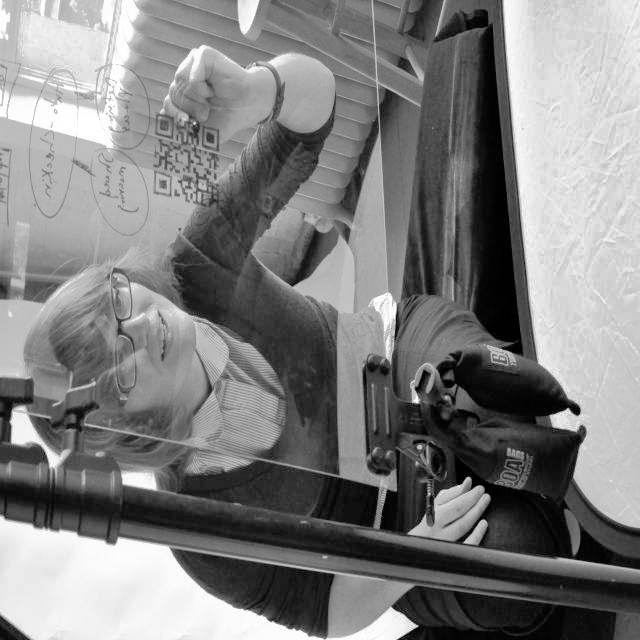qr_code: (153, 113, 219, 208)
